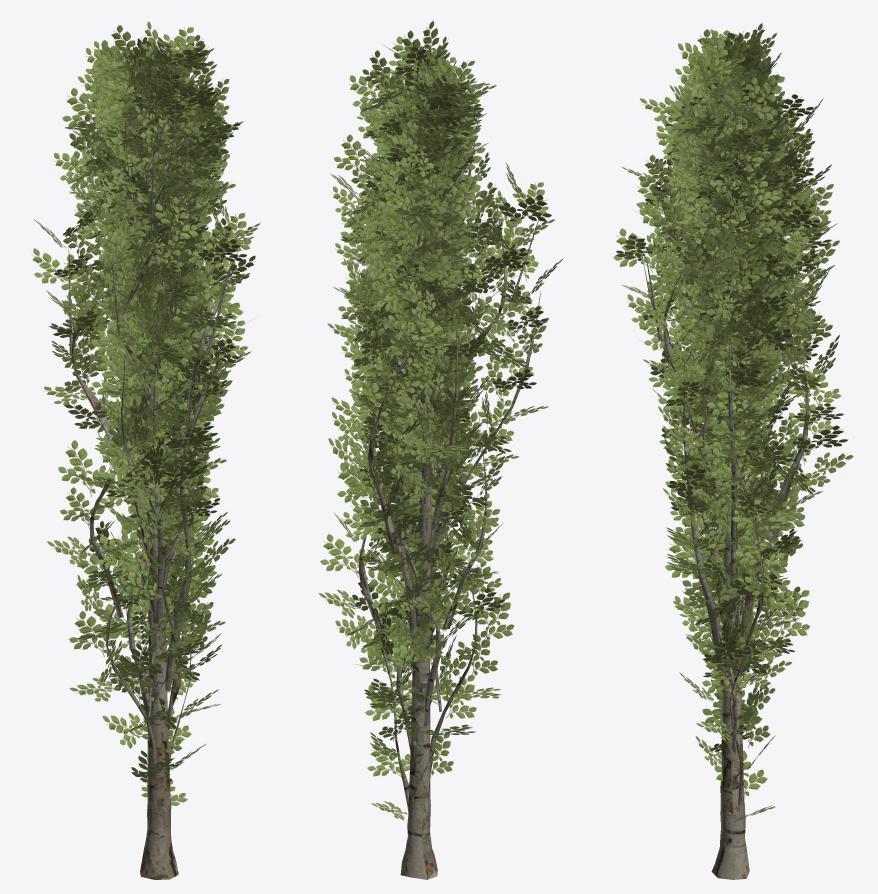
File: peuplier-3.glb
The picture shows the model from 3 angles, left to right: view 1: azimuth 30°, elevation 25°; view 2: azimuth 150°, elevation 25°; view 3: azimuth 270°, elevation 25°; orthographic projection.
Parts seen in each view (by area): view 1: leaves; view 2: leaves; view 3: leaves.
Boxes of the visible parts, bbox=[...] form: leaves: bbox=[32, 21, 260, 879]; leaves: bbox=[318, 21, 562, 879]; leaves: bbox=[613, 23, 853, 879].
Bounding box in the file's own units: 301 × 1194 × 338.
Materials: 2 (2 with a texture image).
